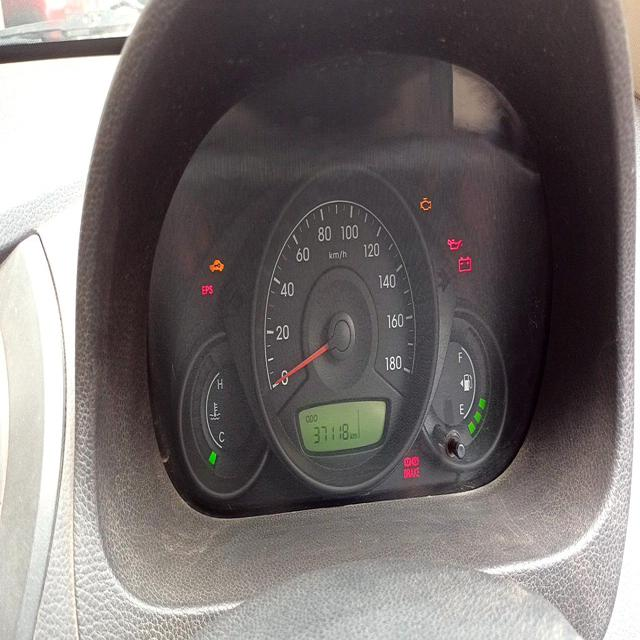odometer: (309, 417, 351, 448)
